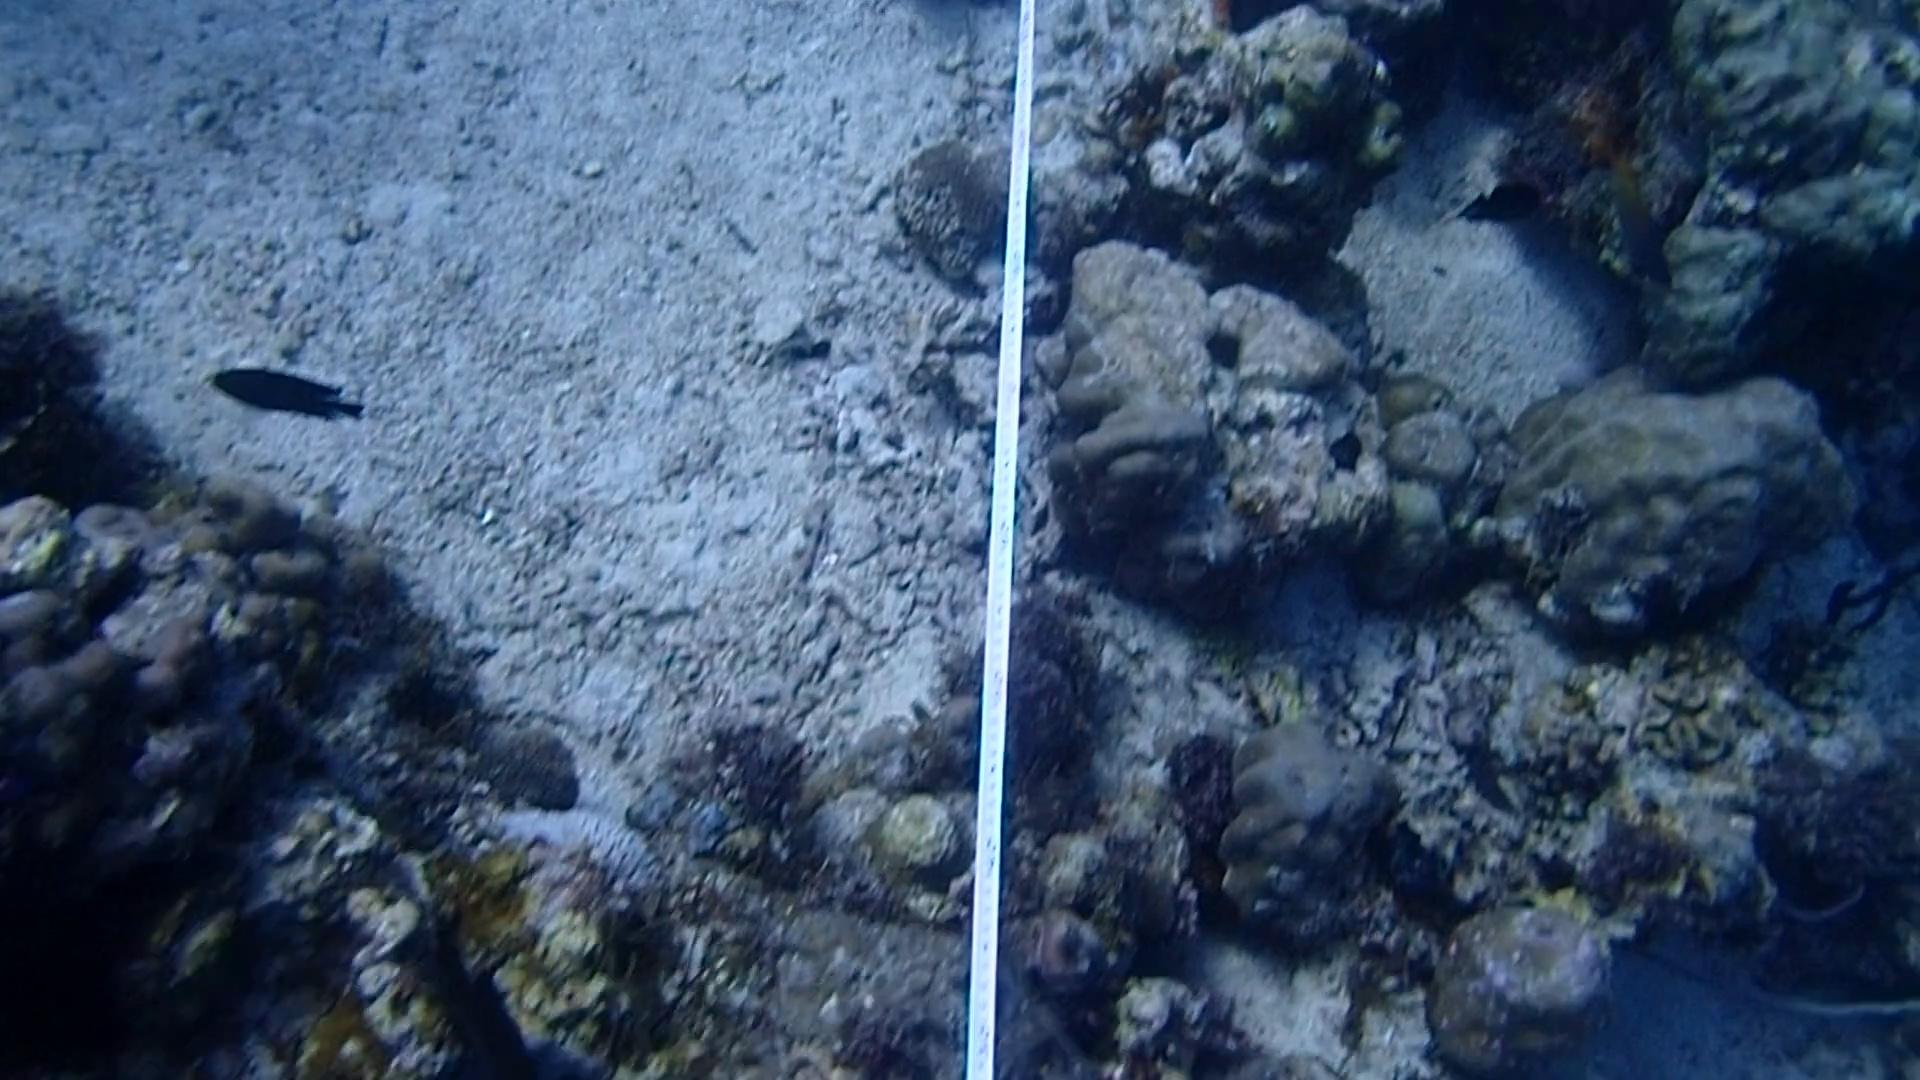Dark Fish: (418, 943, 539, 1080), (196, 345, 367, 442), (1444, 165, 1549, 243)
Half Blue - Half Yellow: (1586, 138, 1684, 291)
